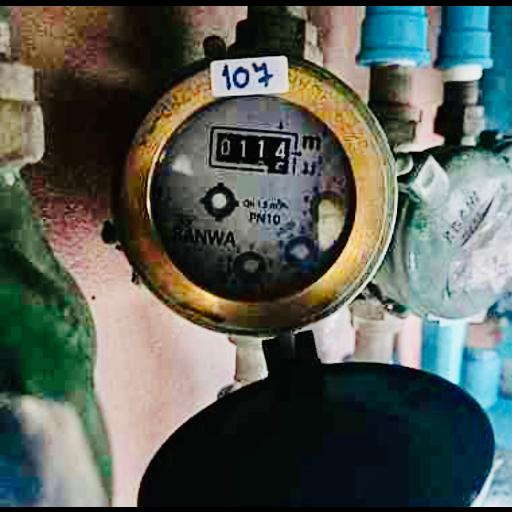0: (216, 132, 236, 162)
1: (233, 133, 253, 164), (251, 134, 271, 165)
4: (267, 134, 291, 174)
border_water_meter_number: (207, 124, 299, 174)
